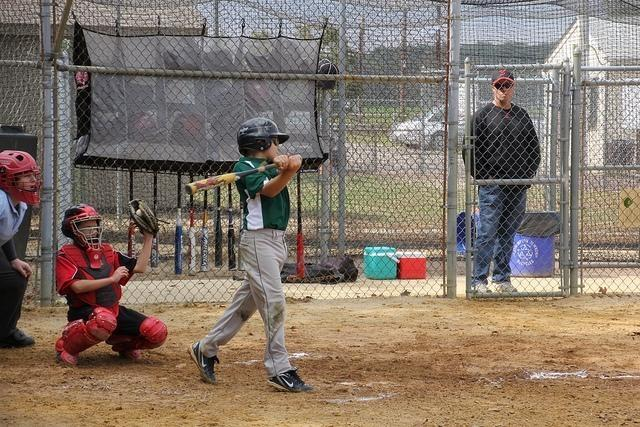car: (393, 104, 468, 150)
